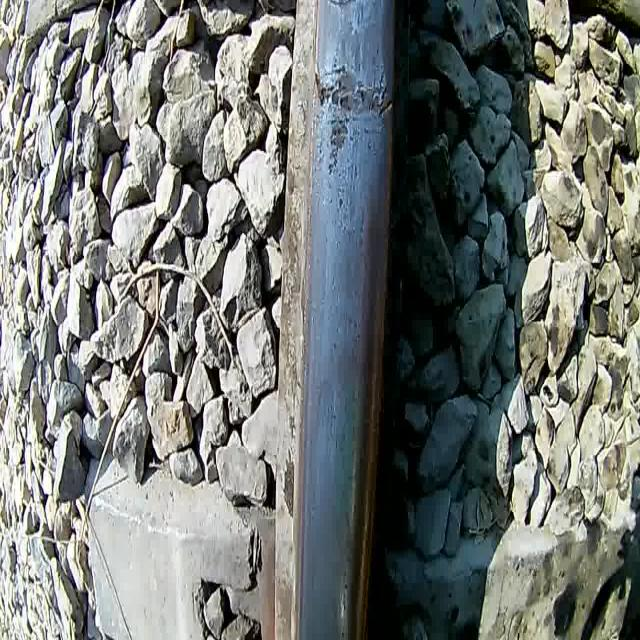Spallings: (313, 65, 354, 113), (367, 65, 394, 121)
Squats: (310, 55, 396, 184)
